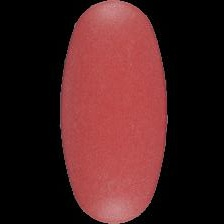68151-4162: (0, 0, 224, 224)
